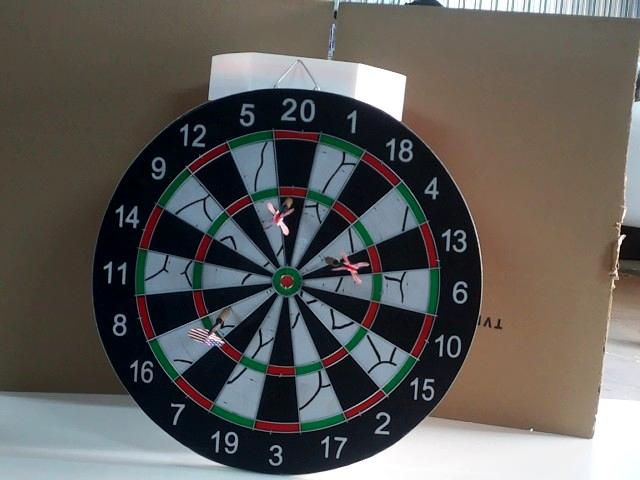single_16: (212, 288, 273, 338)
single_20: (274, 202, 302, 263)
single_4: (298, 228, 366, 275)
